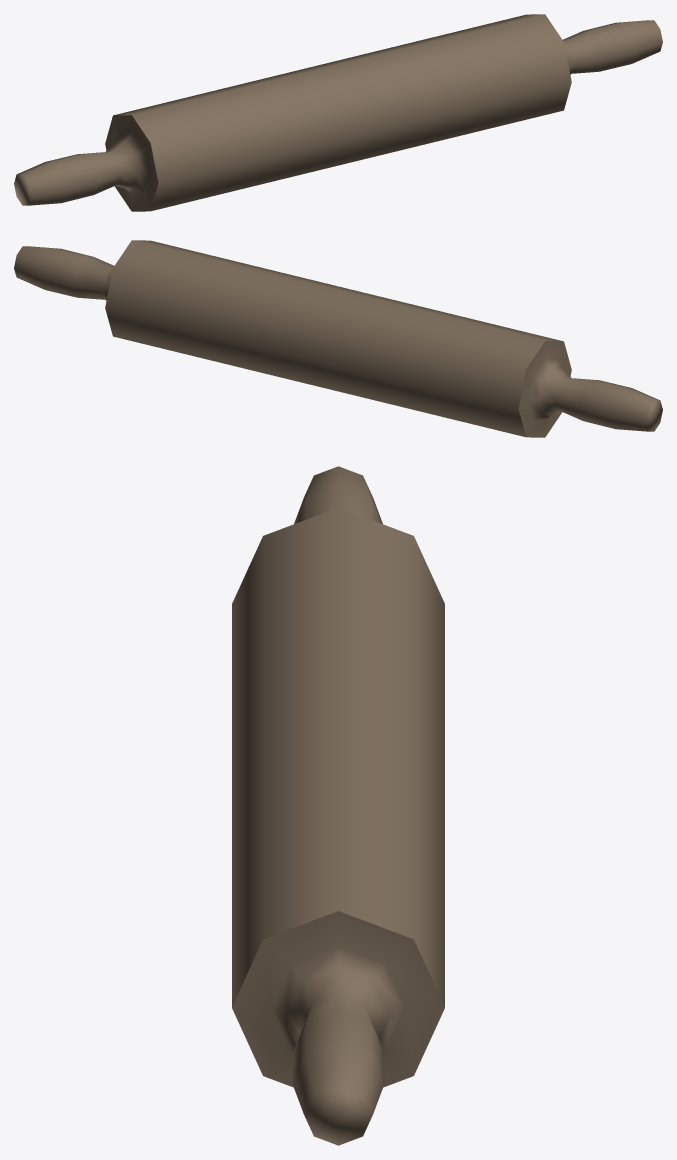
The model's file is PS_DoughRoller01.fbx.
3 renders of one model, top to bottom at view 1: azimuth 30°, elevation 25°; view 2: azimuth 150°, elevation 25°; view 3: azimuth 270°, elevation 25°, orthographic. The views are drawn at different scales.
Visible parts, largest first — view 1: PS_DoughRoller01; view 2: PS_DoughRoller01; view 3: PS_DoughRoller01.
Boxes of the visible parts, box(x1,y1,x2,y2) form: PS_DoughRoller01: box(14, 14, 662, 211); PS_DoughRoller01: box(14, 240, 662, 437); PS_DoughRoller01: box(232, 466, 444, 1145).
Bounding box in the file's own units: 0.8583 × 0.1255 × 0.1255.
